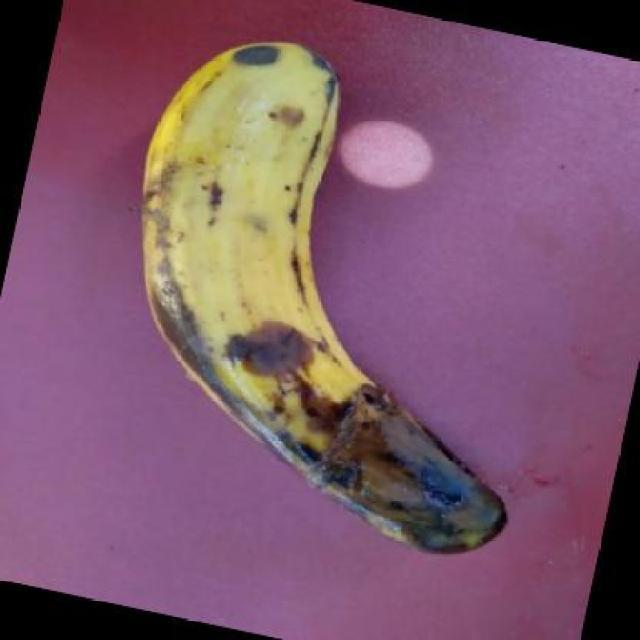rotten: (63, 8, 551, 577)
